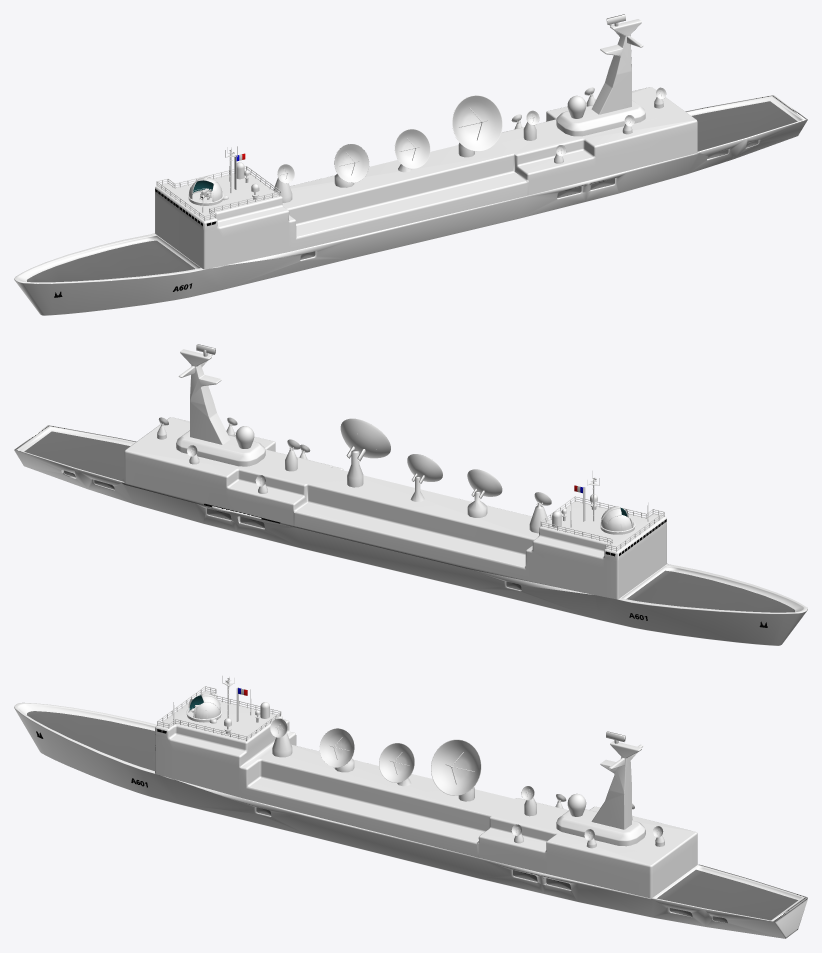
Rendered from SM_Monge_OPTI.fbx.
3 views of the same model, one above another, from view 1: azimuth 30°, elevation 25°; view 2: azimuth 150°, elevation 25°; view 3: azimuth 330°, elevation 25° (orthographic).
Visible parts, largest first — view 1: SM_DGA_Monge1; view 2: SM_DGA_Monge1; view 3: SM_DGA_Monge1.
Boxes of the visible parts, box(x1,y1,x2,y2) form: SM_DGA_Monge1: box(14, 14, 807, 315); SM_DGA_Monge1: box(14, 344, 807, 645); SM_DGA_Monge1: box(14, 676, 807, 938).
Bounding box in the file's own units: 225 × 43.98 × 25.49.
Materials: 1 (1 with a texture image).
